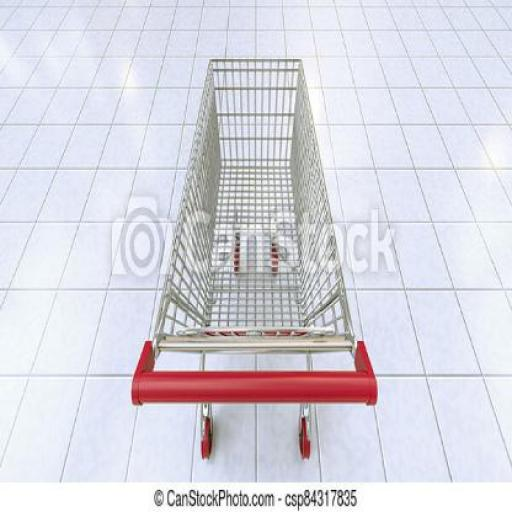shopping_cart: (131, 52, 380, 462)
